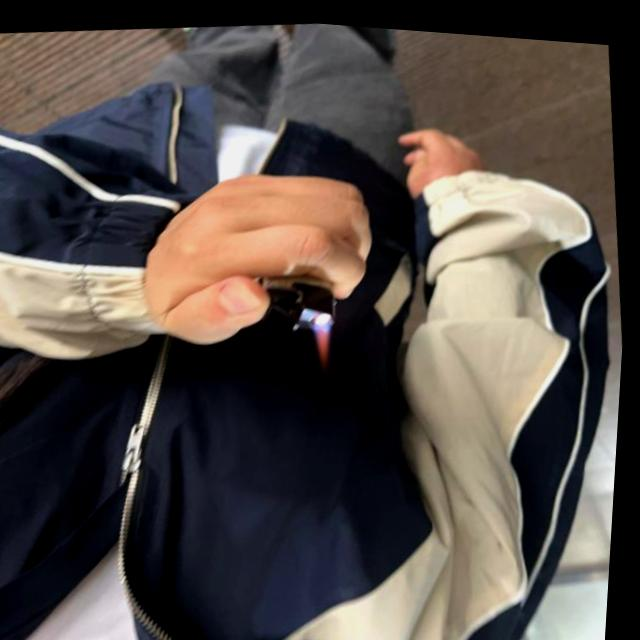helmet: (316, 303, 340, 362)
